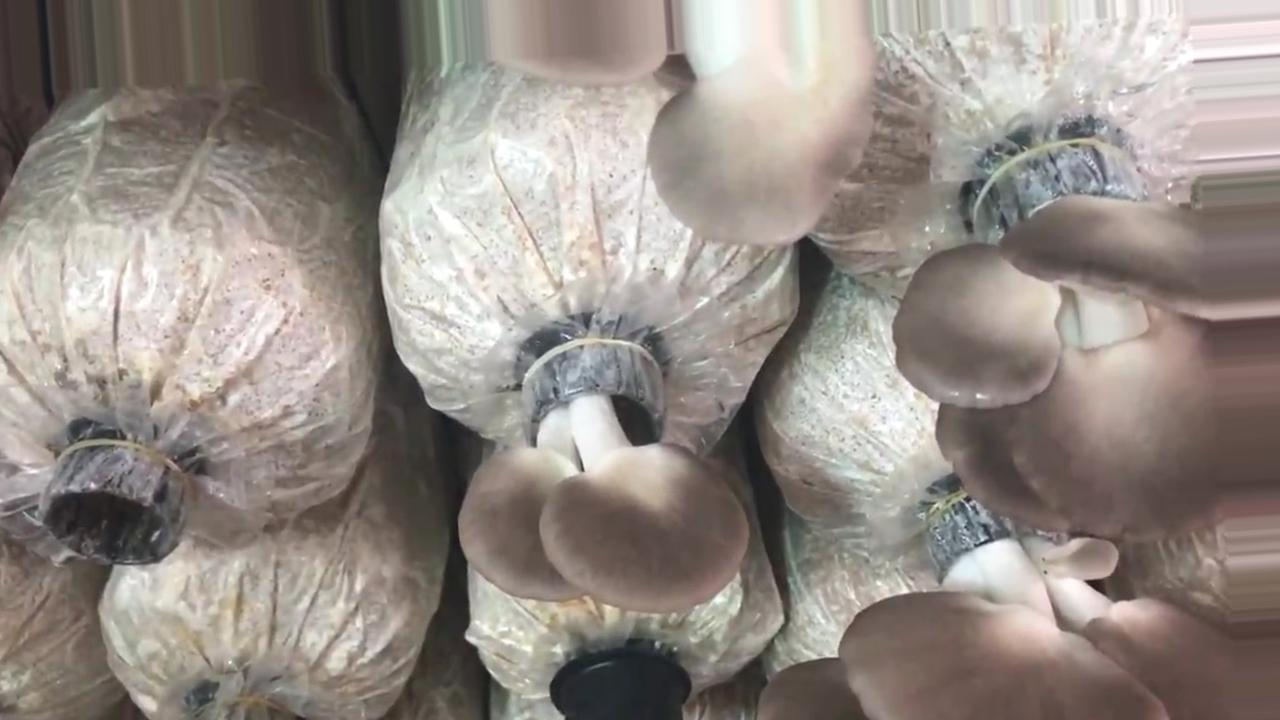nam: (900, 141, 1280, 544), (767, 489, 1276, 720), (494, 1, 878, 242), (463, 332, 745, 612)
